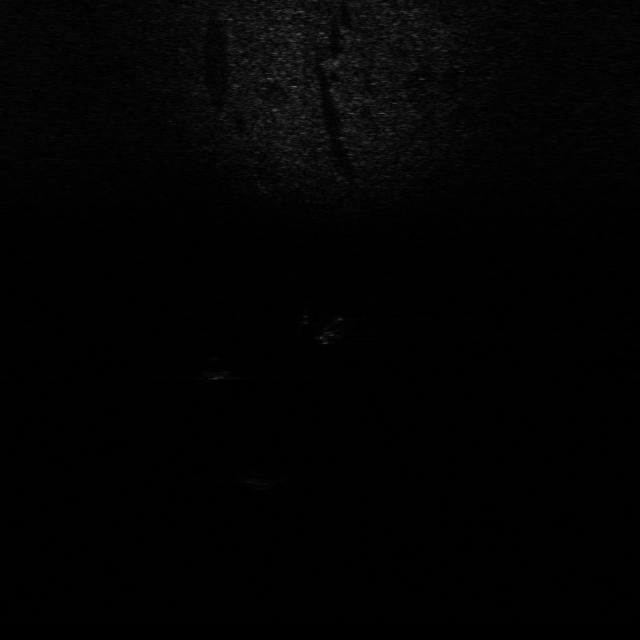ball: (200, 354, 234, 380)
circle cage: (236, 465, 292, 488)
human body: (293, 308, 363, 345)
